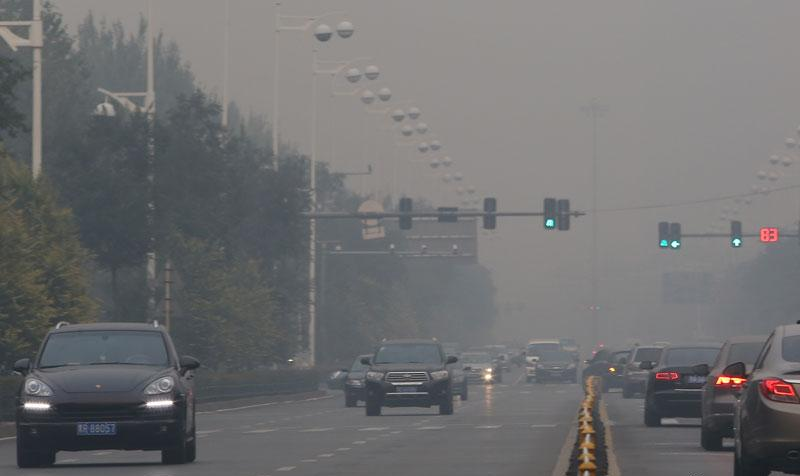car: (13, 318, 202, 472), (721, 322, 800, 476), (690, 332, 792, 451), (357, 333, 461, 419), (640, 342, 738, 426), (617, 340, 678, 400), (339, 351, 397, 409), (421, 341, 474, 404), (579, 348, 636, 392), (522, 338, 565, 380), (532, 349, 579, 383), (468, 346, 507, 383), (459, 350, 495, 386)
